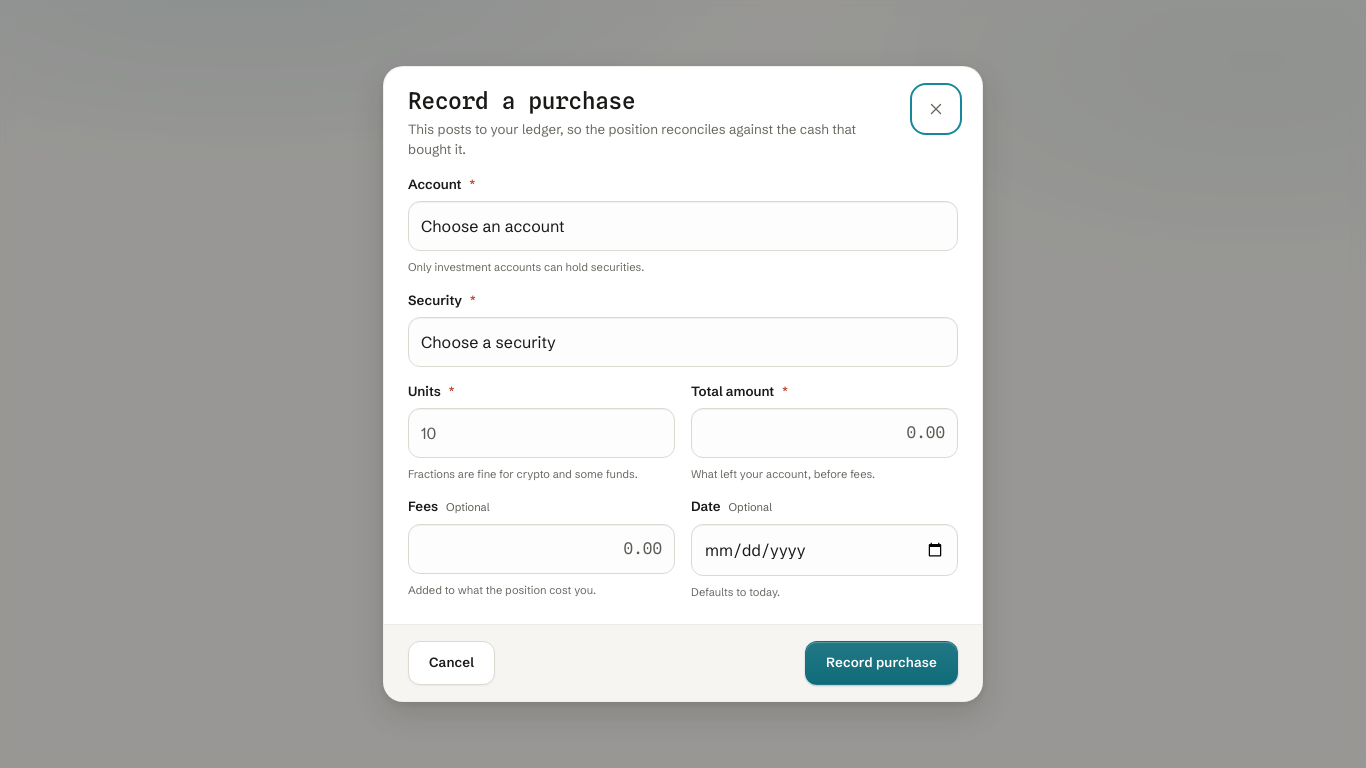
Scenario: TradeModal › refuses a zero quantity
Select "Brokerage" in the dropdown labelled "Account *": (683,226) [408,201,958,251]
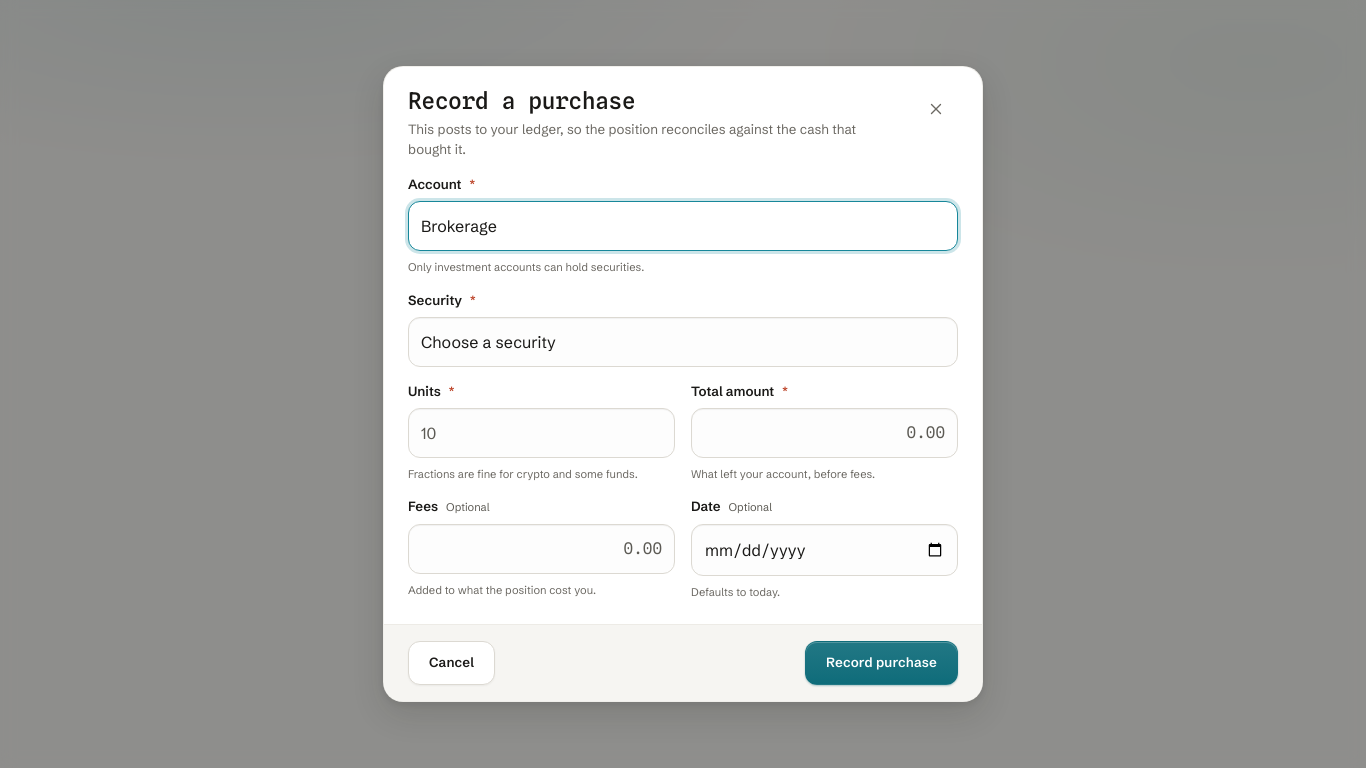
Select "ACME — Acme Inc" in the dropdown labelled "Security *": (683,342) [408,317,958,367]
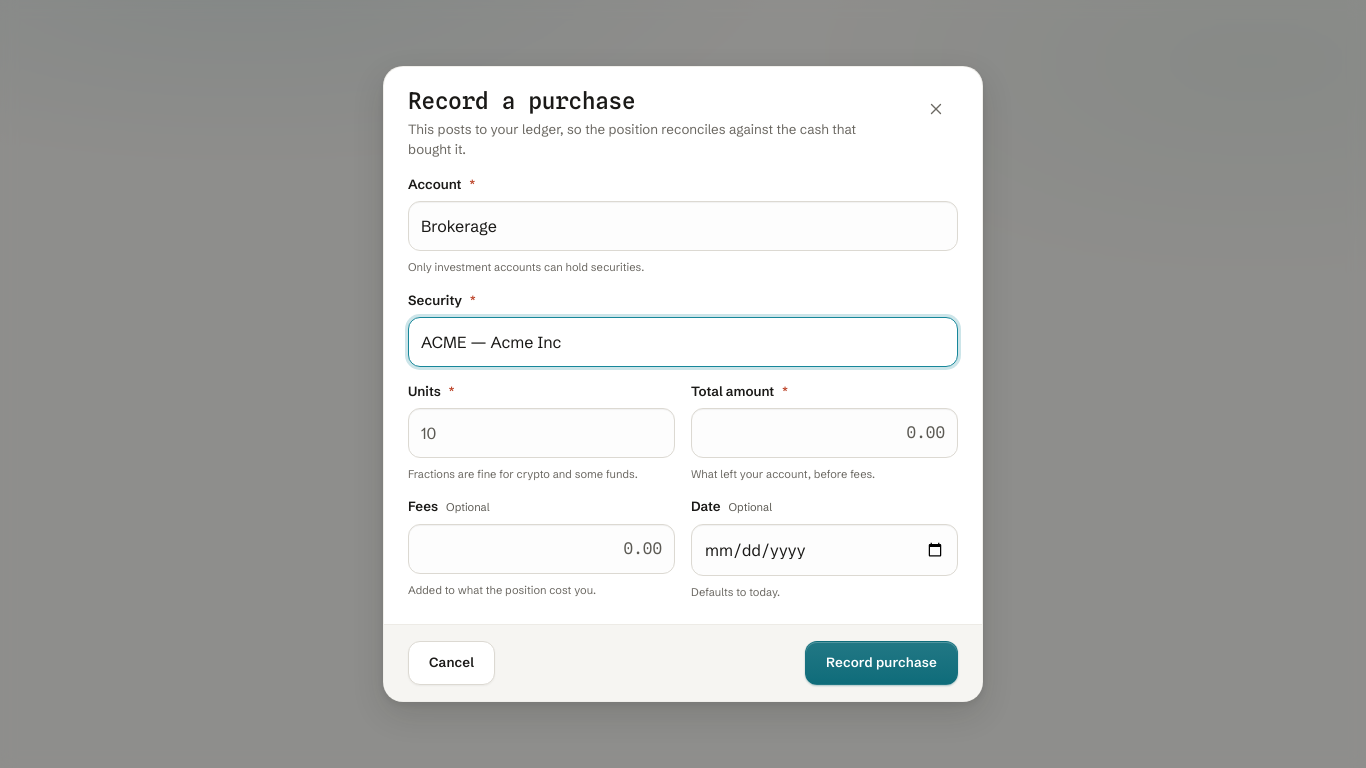
In the field labelled "Units *": (542,433) [408,408,675,458], type "0"
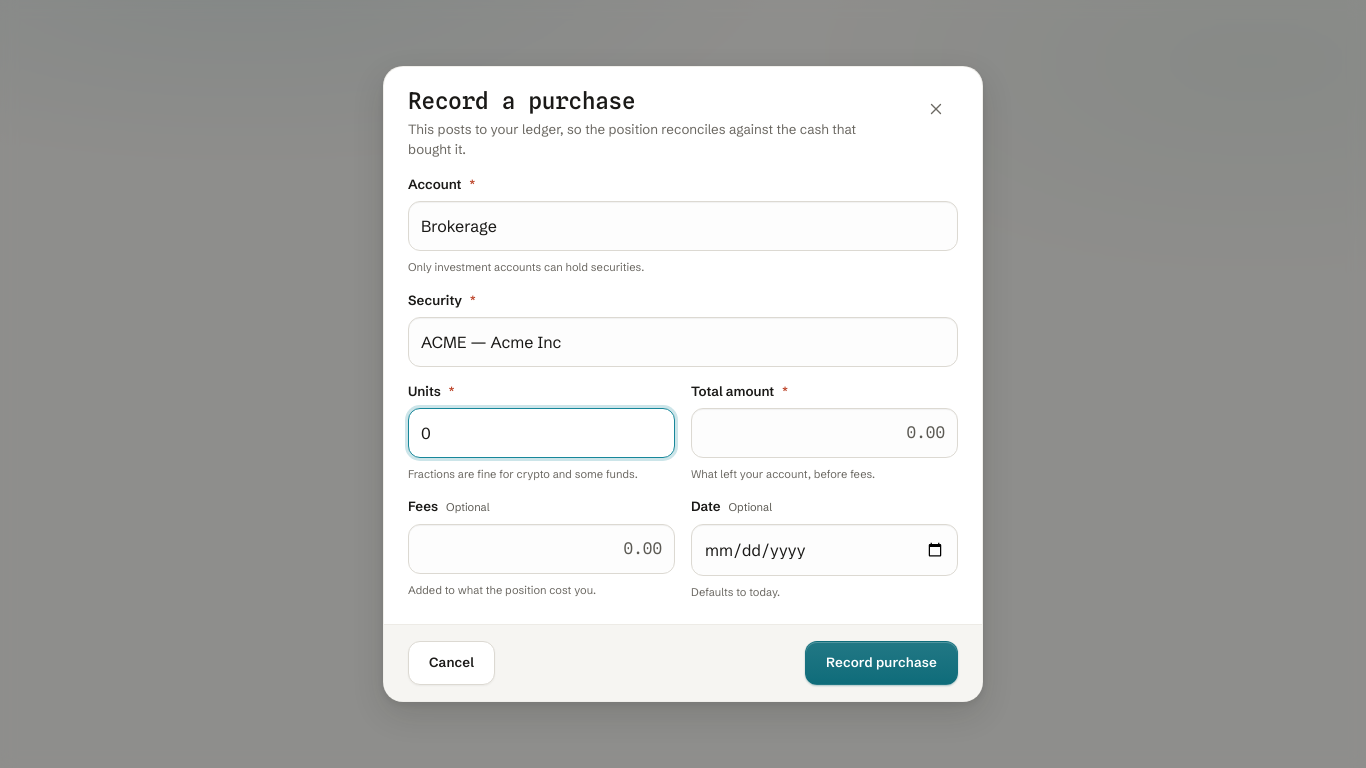
In the field labelled "Total amount *": (824,433) [691,408,958,458], type "100"
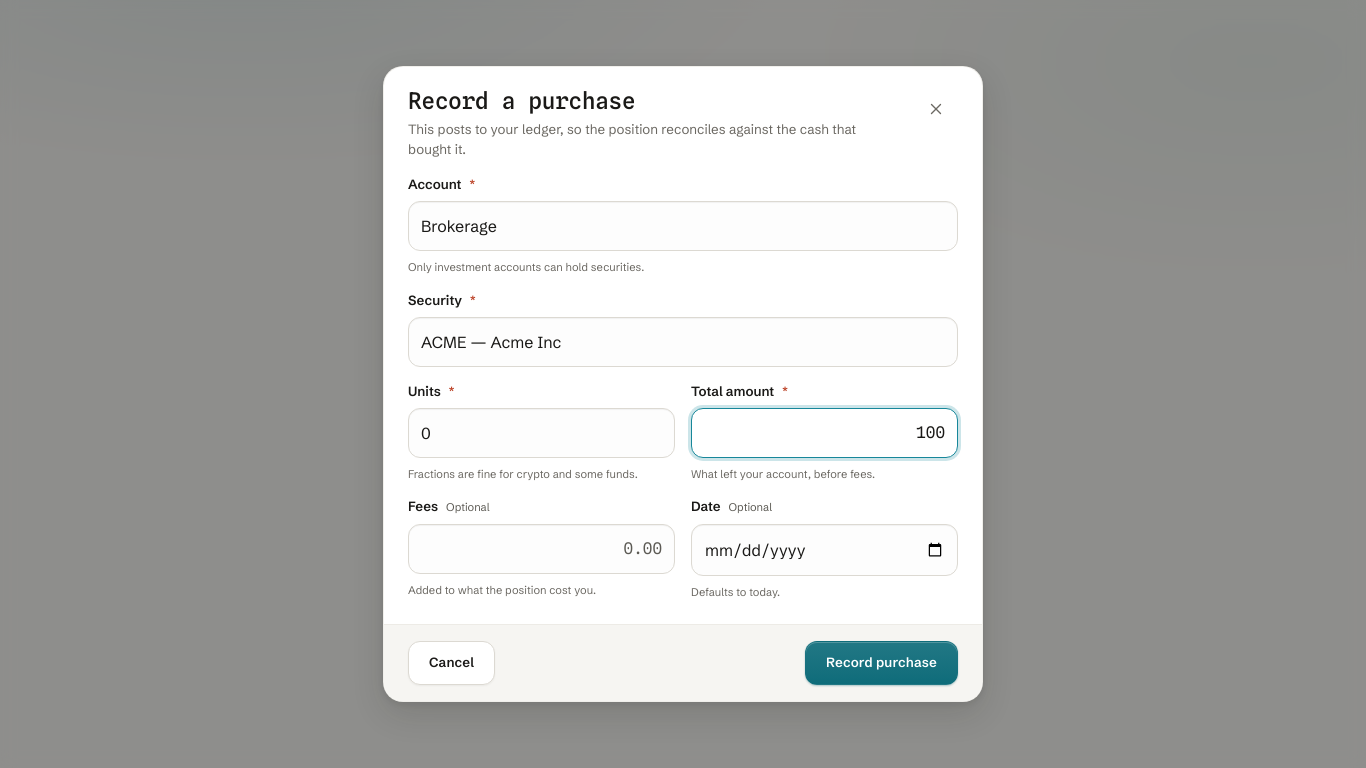
Click the button "Record purchase": (882,663) [805,641,958,685]
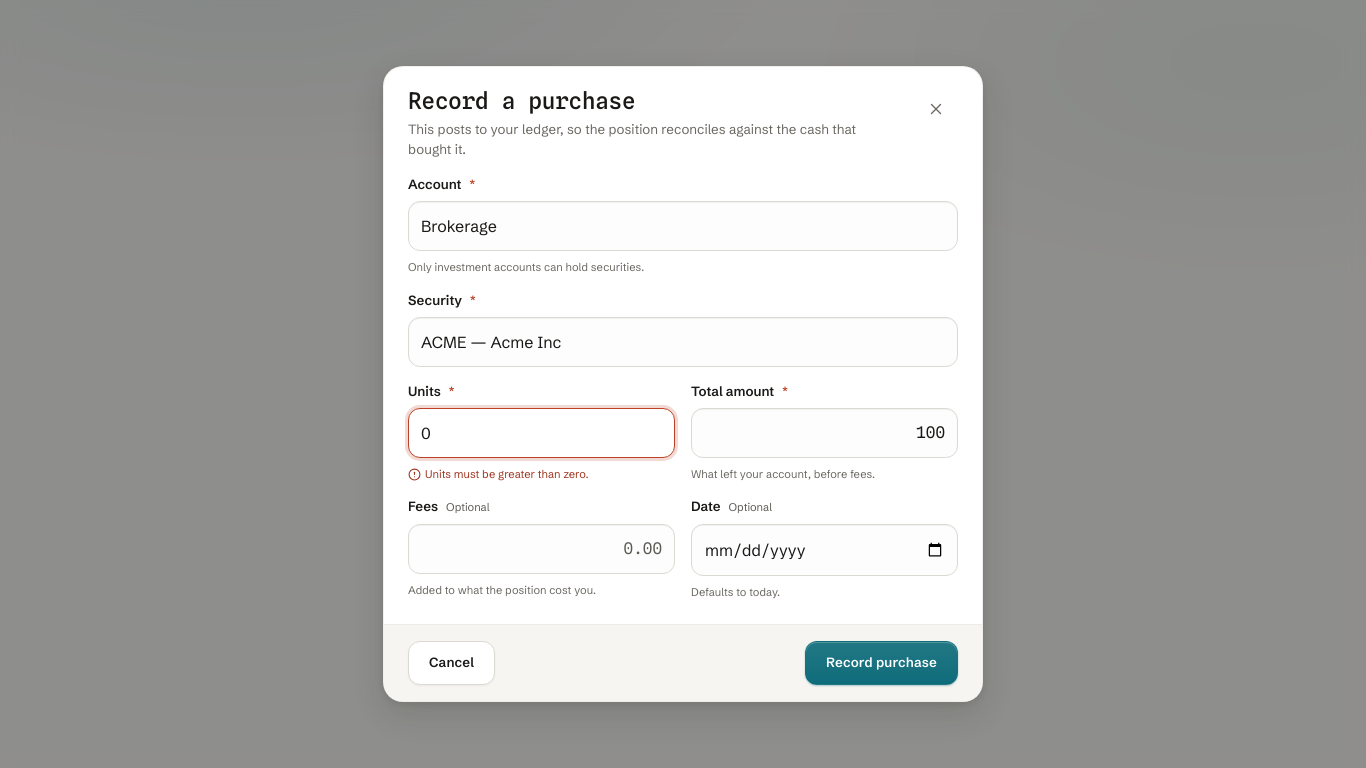
Expected: the text "Units must be greater than zero." is shown, [408,467,589,481]
